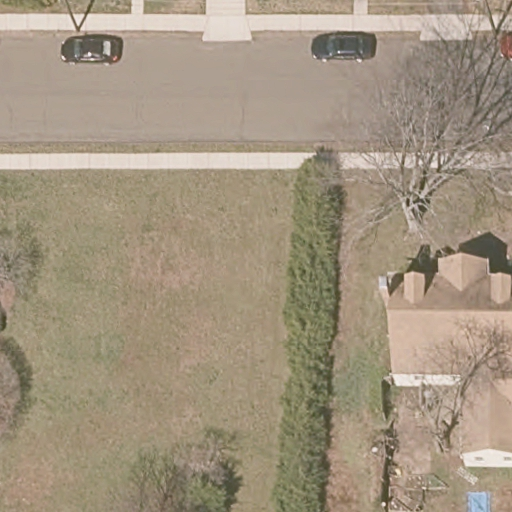DT: (58, 1, 82, 32), (480, 1, 501, 36)
